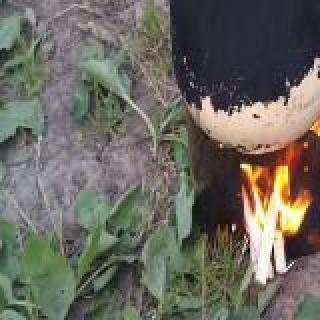fire: (230, 116, 316, 270)
